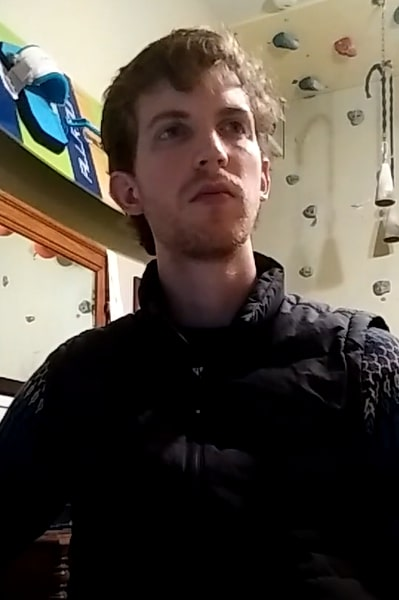Not Sleeping: (143, 109, 258, 150)
